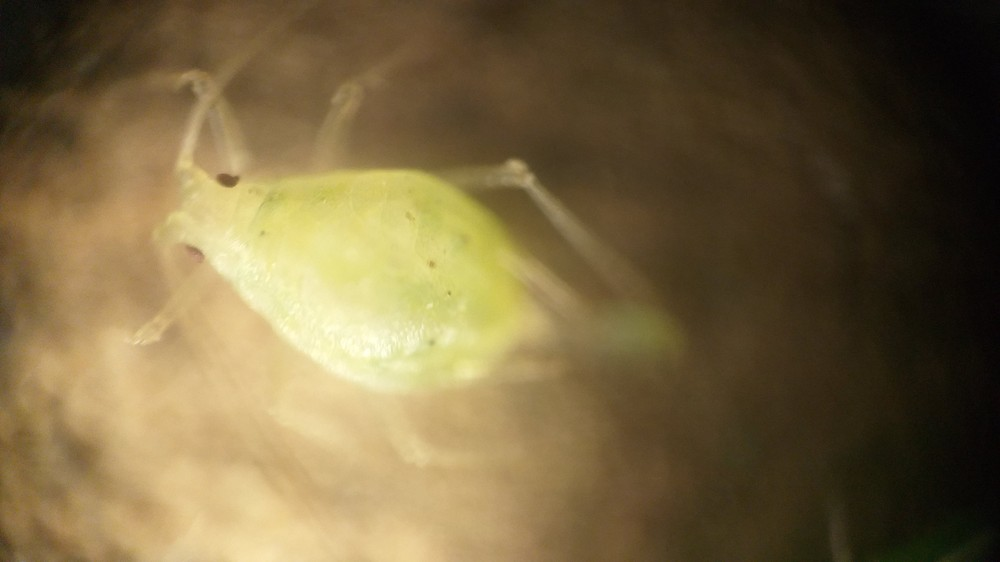Pulgon: (114, 29, 705, 493)
